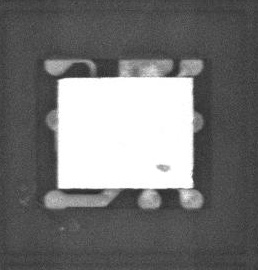DIE_INK: (148, 170, 163, 180)
